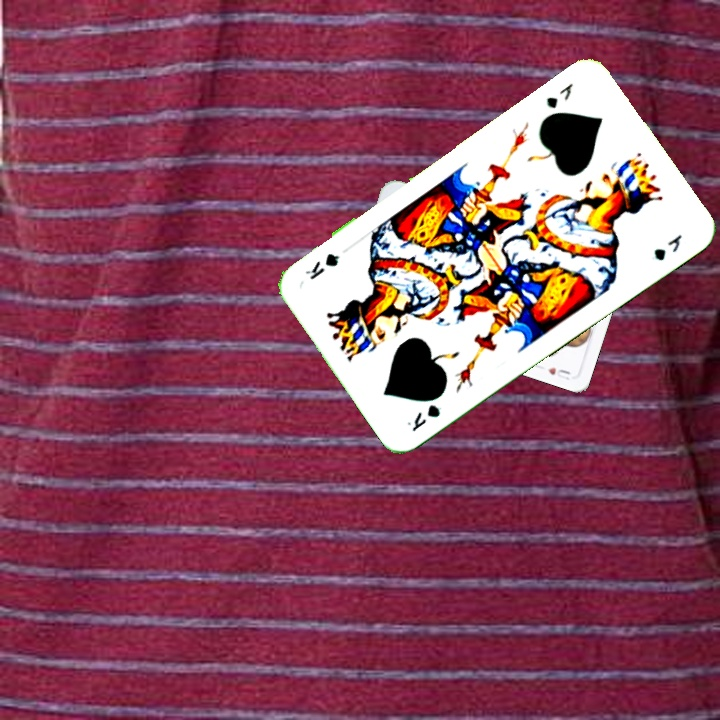GK: (403, 400, 443, 435), (542, 79, 576, 112)
